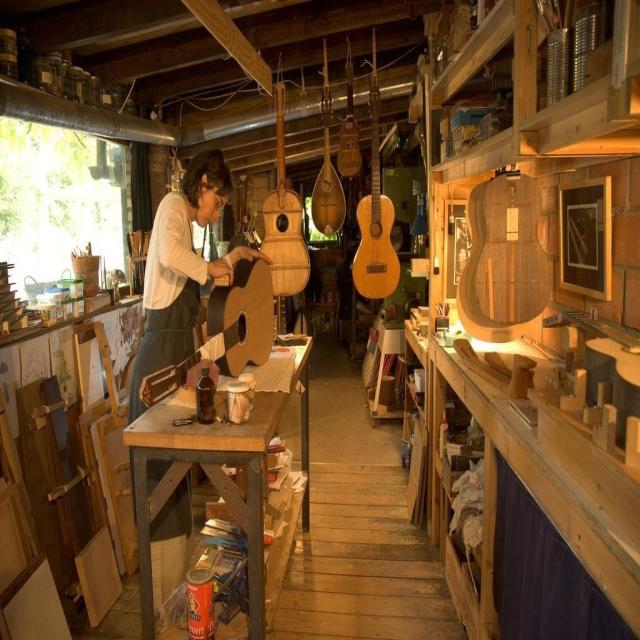guitar: (135, 254, 277, 410), (258, 78, 314, 300), (350, 85, 400, 304)
